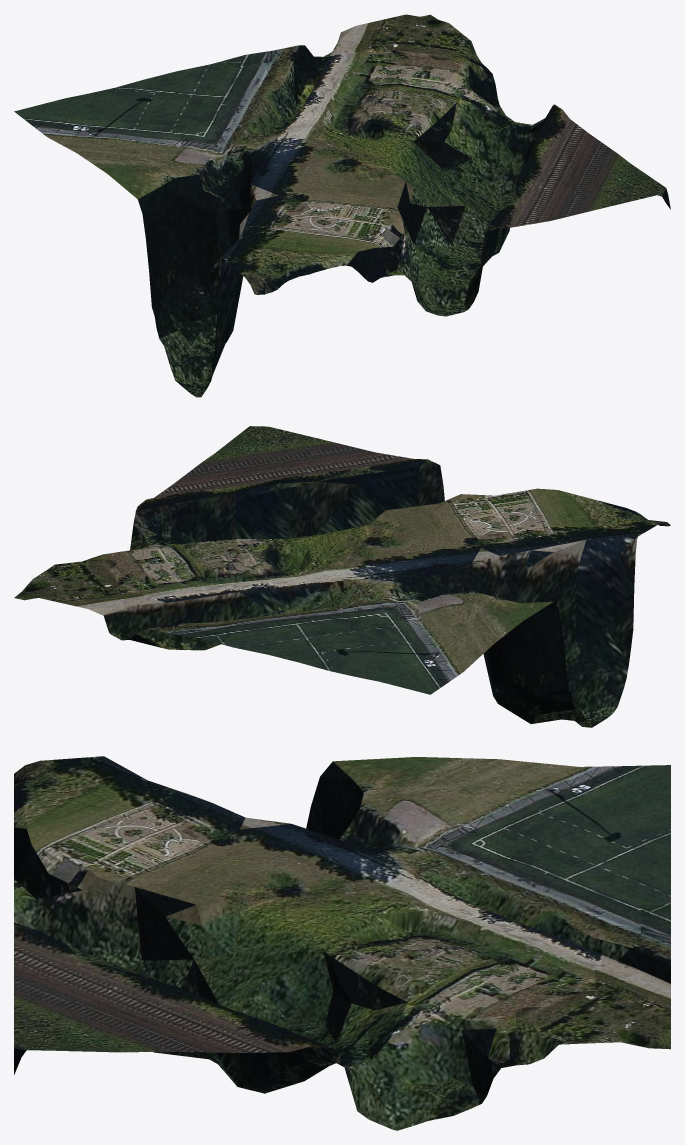
The model's file is map_15_8184_13790.dae.
The picture shows the model from 3 angles, top to bottom: view 1: azimuth 30°, elevation 25°; view 2: azimuth 150°, elevation 25°; view 3: azimuth 270°, elevation 25°; orthographic projection. The views are drawn at different scales.
Visible parts, largest first — view 1: Ter0; view 2: Ter0; view 3: Ter0.
Part boxes in pixels (x1,y1,x2,y2): Ter0: (14, 14, 670, 397); Ter0: (14, 426, 670, 727); Ter0: (14, 756, 670, 1130).
Bounding box in the file's own units: 63.88 × 63.88 × 23.35.
3 materials, 3 textured.
